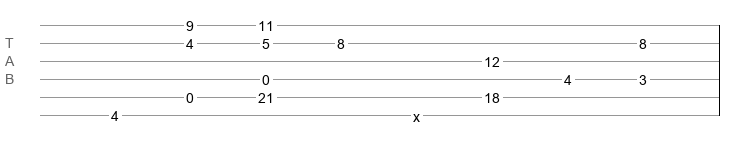0: (186, 90, 194, 100), (262, 72, 270, 82)
11: (258, 18, 274, 28)
12: (484, 54, 500, 64)
18: (484, 90, 500, 100)
21: (258, 90, 274, 100)
3: (639, 72, 647, 82)
4: (111, 108, 119, 118), (186, 36, 194, 46), (564, 72, 572, 82)
5: (262, 36, 270, 46)
8: (337, 36, 345, 46), (639, 36, 647, 46)
9: (186, 18, 194, 28)
x: (413, 109, 420, 117)
